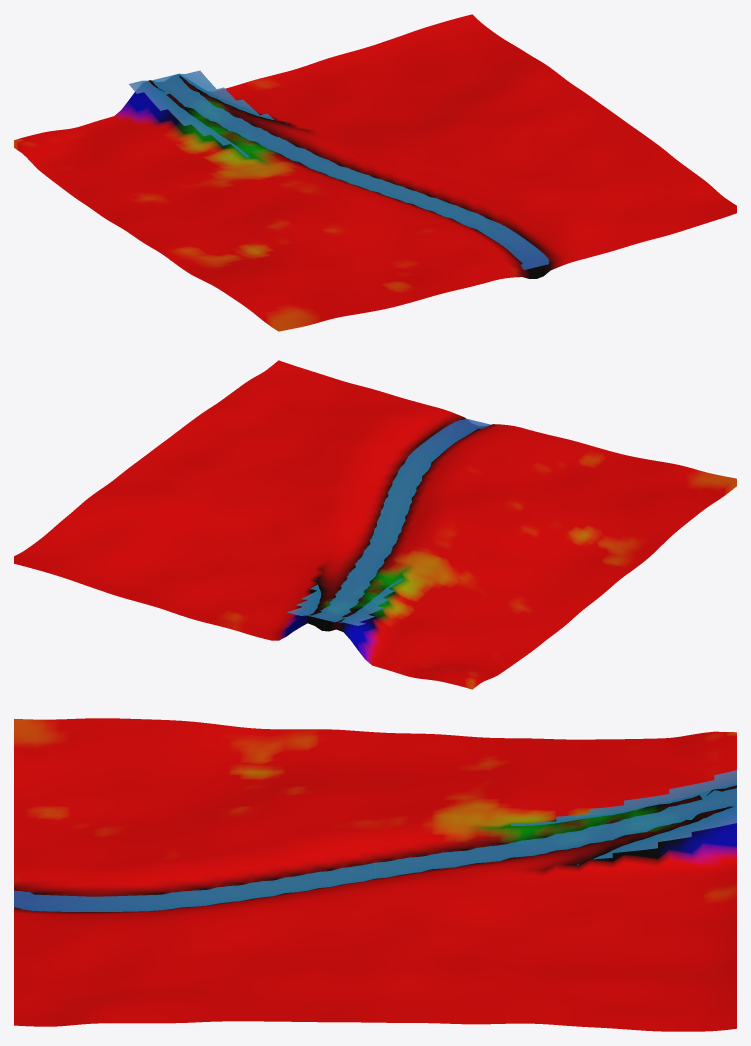
The model's file is chunk_5_2.glb.
3 views of the same model, one above another, from view 1: azimuth 30°, elevation 25°; view 2: azimuth 150°, elevation 25°; view 3: azimuth 270°, elevation 25° (orthographic). The views are drawn at different scales.
Visible parts, largest first — view 1: LOD0, Water; view 2: LOD0, Water; view 3: LOD0, Water.
Boxes of the visible parts, x1,y1,x2,y2 form: LOD0: (14, 14, 736, 331); Water: (129, 70, 549, 269); LOD0: (14, 360, 736, 689); Water: (287, 418, 490, 625); LOD0: (14, 718, 736, 1031); Water: (14, 770, 736, 911).
Size of what is drawn, in the model's own units: 256 by 21.98 by 256.
